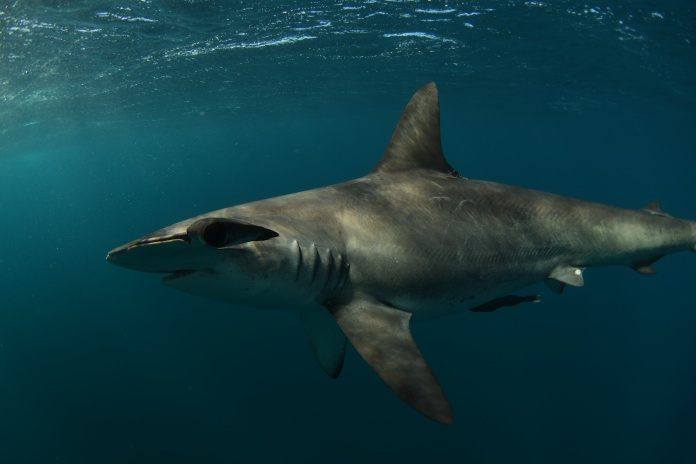Hammer: (55, 75, 696, 425)
